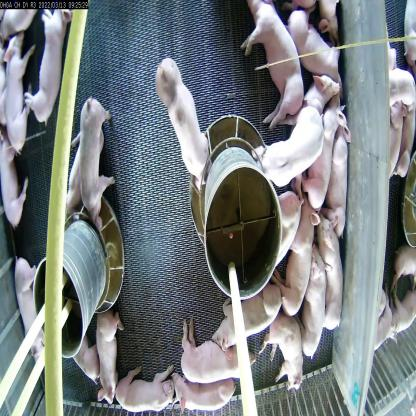Pig: (236, 0, 309, 136), (146, 57, 213, 193), (239, 102, 329, 192), (24, 8, 78, 132), (4, 248, 52, 379), (75, 93, 118, 237), (177, 320, 260, 394), (312, 207, 355, 341), (278, 186, 318, 328), (60, 118, 112, 227), (203, 289, 289, 352), (0, 27, 41, 159), (286, 3, 342, 89), (303, 96, 343, 211), (322, 118, 356, 242), (91, 298, 128, 411), (378, 40, 406, 185), (169, 364, 246, 415), (110, 359, 180, 415), (0, 132, 34, 245), (304, 245, 333, 371), (269, 312, 308, 398), (63, 324, 107, 393), (317, 0, 358, 59), (395, 64, 415, 184), (273, 186, 303, 265), (372, 287, 402, 359), (304, 75, 344, 116)
